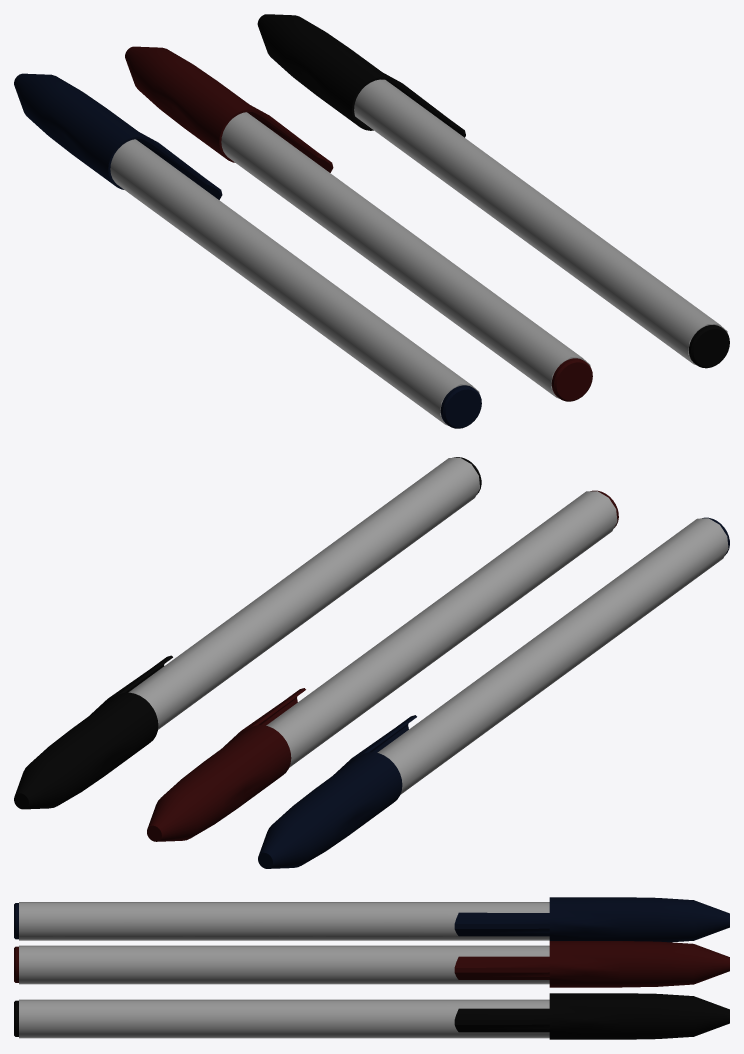
Rendered from Pens_518.obj.
3 renders of one model, top to bottom at view 1: azimuth 30°, elevation 25°; view 2: azimuth 150°, elevation 25°; view 3: azimuth 270°, elevation 25°, orthographic. The views are drawn at different scales.
Parts seen in each view (by area): view 1: ChamferCyl002, Tube002, Tube003; view 2: ChamferCyl002, Tube002, Tube003; view 3: Tube003, Tube002, ChamferCyl002.
Part boxes in pixels (x1,y1,x2,y2): ChamferCyl002: (14, 73, 481, 428); Tube002: (125, 46, 592, 401); Tube003: (257, 14, 729, 368); ChamferCyl002: (258, 517, 729, 868); Tube002: (147, 490, 618, 841); Tube003: (14, 457, 481, 809); Tube003: (14, 993, 729, 1039); Tube002: (14, 941, 729, 987); ChamferCyl002: (14, 897, 729, 942).
Bounding box in the file's own units: 21.43 × 3.58 × 55.07.
